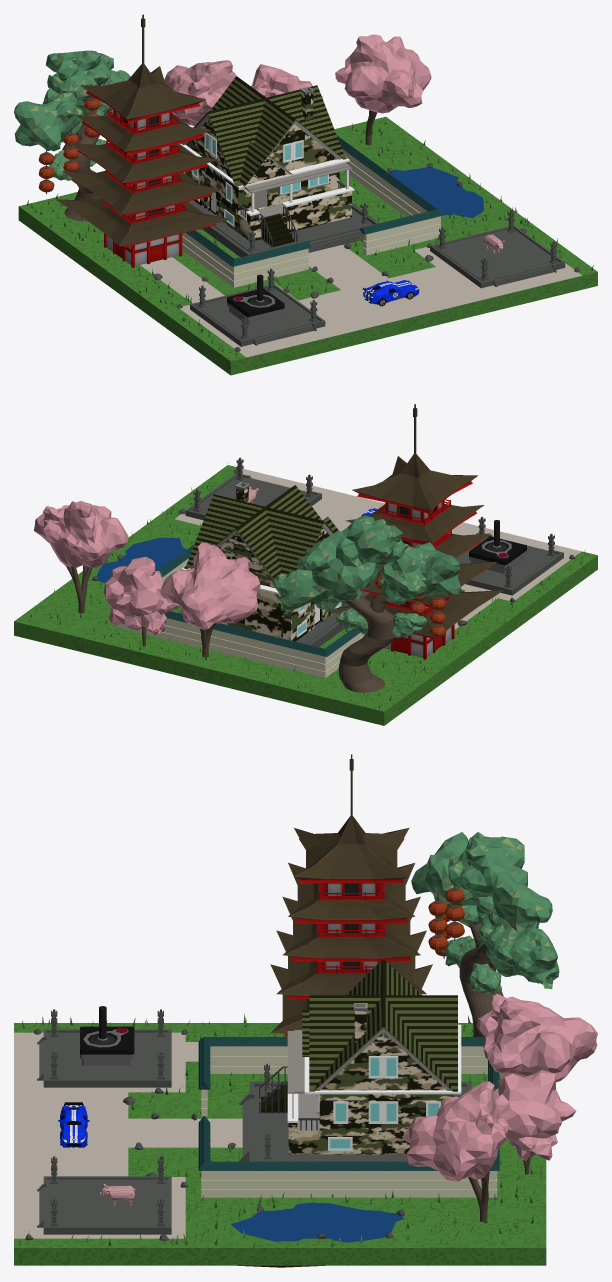
The picture shows the model from 3 angles, top to bottom: view 1: azimuth 30°, elevation 25°; view 2: azimuth 150°, elevation 25°; view 3: azimuth 270°, elevation 25°; orthographic projection. The views are drawn at different scales.
Parts seen in each view (by area): view 1: Cube.005, Cube.001, OBJRANDOM_JOYSTICK, VEHICLES_RACING_CAR; view 2: Cube.005, Cube.001, OBJRANDOM_JOYSTICK; view 3: Cube.005, Cube.001, OBJRANDOM_JOYSTICK, VEHICLES_RACING_CAR.
Part boxes in pixels (x1,y1,x2,y2): Cube.005: (14,14,597,375); Cube.001: (179,76,354,247); OBJRANDOM_JOYSTICK: (227,274,284,325); VEHICLES_RACING_CAR: (362,280,419,306); Cube.005: (14,404,597,725); Cube.001: (181,482,346,641); OBJRANDOM_JOYSTICK: (469,520,526,573); Cube.005: (14,754,597,1265); Cube.001: (259,959,461,1154); OBJRANDOM_JOYSTICK: (80,1006,134,1065); VEHICLES_RACING_CAR: (58,1102,89,1147).
Bounding box in the file's own units: 4528 × 2756 × 4389.
47 materials, 7 textured.
